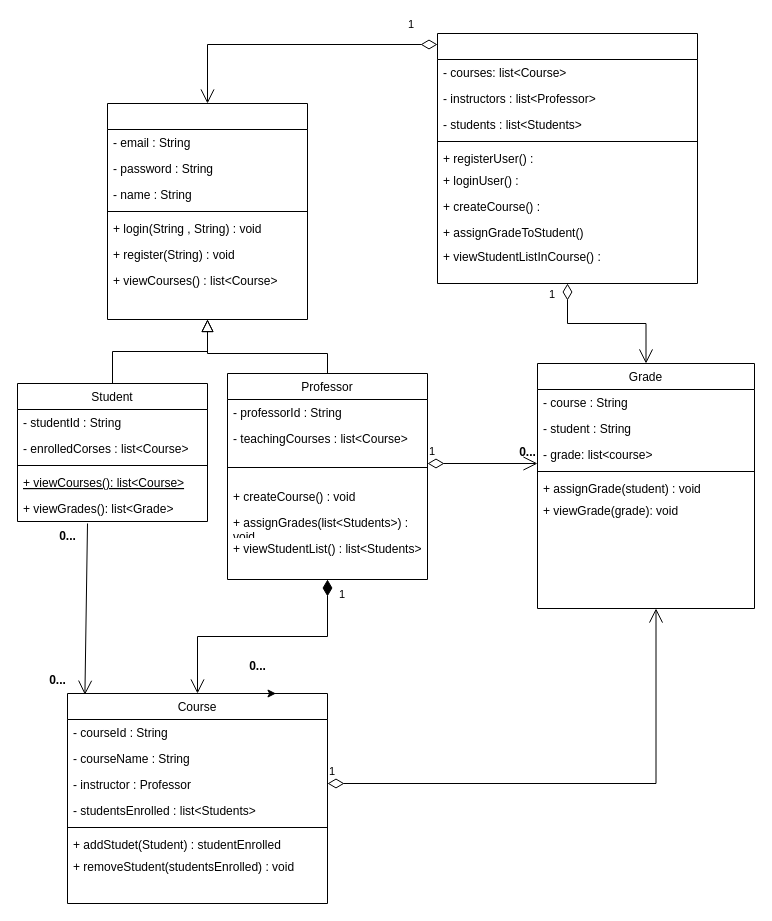
This 772x921 diagram has some shape labels left out. The box of each missing label's shape, as (x1, y1, x2, y2) in pixels:
StudentManagement: (436, 32, 698, 284)
User: (106, 102, 308, 320)
